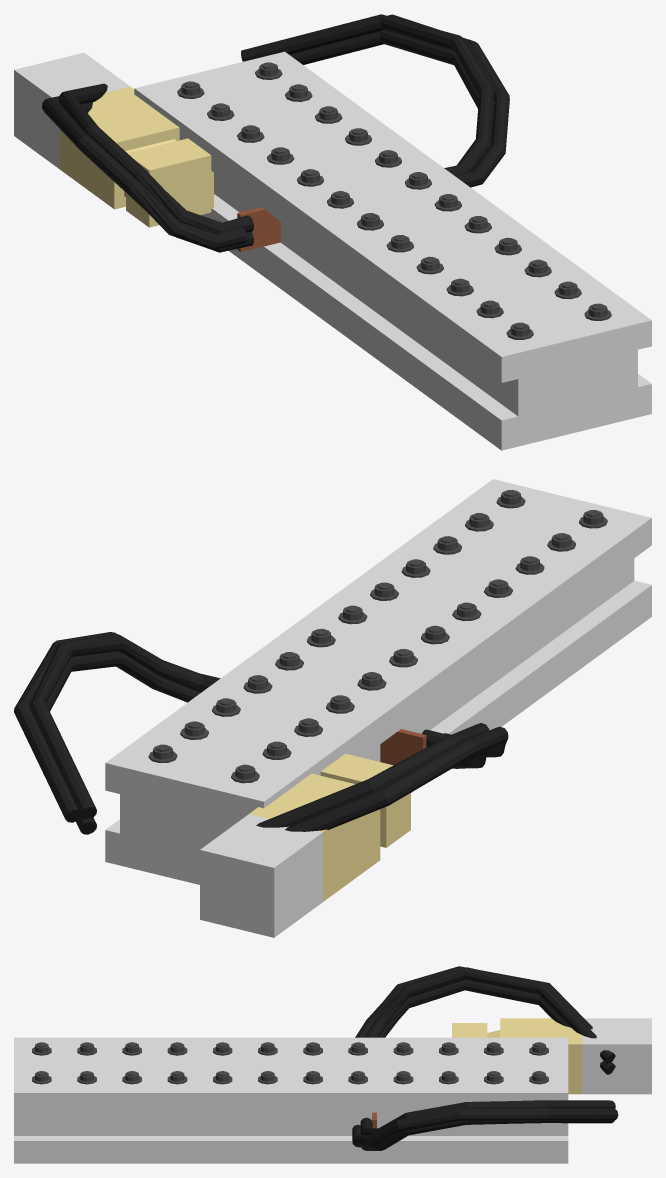
File: railgun1.obj
3 views of the same model, one above another, from view 1: azimuth 30°, elevation 25°; view 2: azimuth 150°, elevation 25°; view 3: azimuth 270°, elevation 25° (orthographic). The views are drawn at different scales.
Parts seen in each view (by area): view 1: user defined2, cube5; view 2: user defined2, cube5; view 3: user defined2, cube5.
Part boxes in pixels (left/top/right/bottom): user defined2: left=42, top=14, right=651, bottom=450; cube5: left=14, top=52, right=213, bottom=227; user defined2: left=14, top=479, right=651, bottom=884; cube5: left=200, top=753, right=410, bottom=937; user defined2: left=14, top=966, right=618, bottom=1163; cube5: left=452, top=1018, right=651, bottom=1094.
Size of the model in its own units: 45.72 by 14.44 by 83.33.
5 materials, 5 textured.
